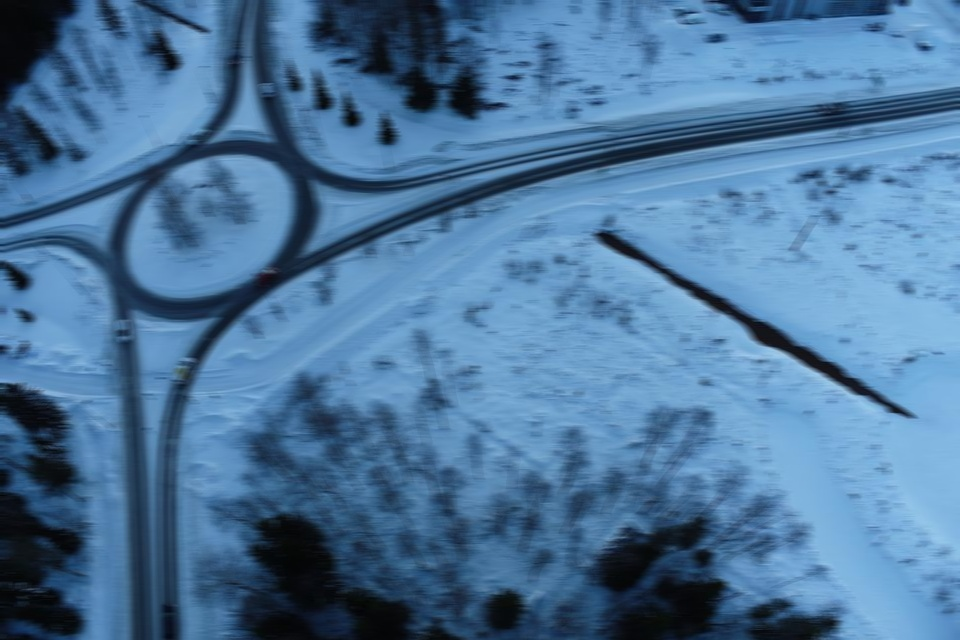roundabout: (74, 112, 353, 350)
